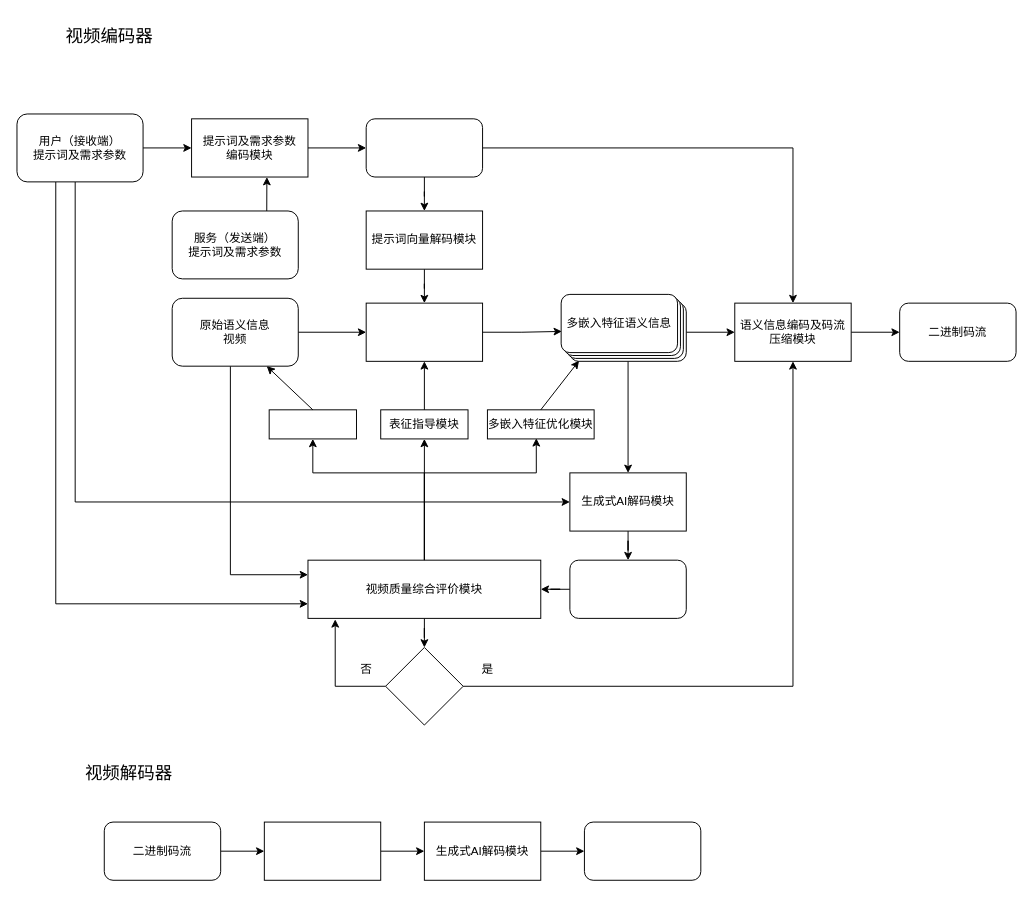
Some shapes in this 1033 by 897 pixel diagram are drawn without their labels. The box of each missing label's shape, as (x1, y1, x2, y2) in pixels:
基于语义重建的 视频: (583, 821, 701, 880)
待迭代视频: (569, 559, 686, 618)
提示词向量 及需求参数码流: (365, 118, 483, 177)
是否 迭代完成: (385, 647, 463, 725)
码流解码模块: (263, 821, 381, 880)
视频提取模块: (365, 302, 483, 361)
语义优化模块: (268, 409, 356, 439)
